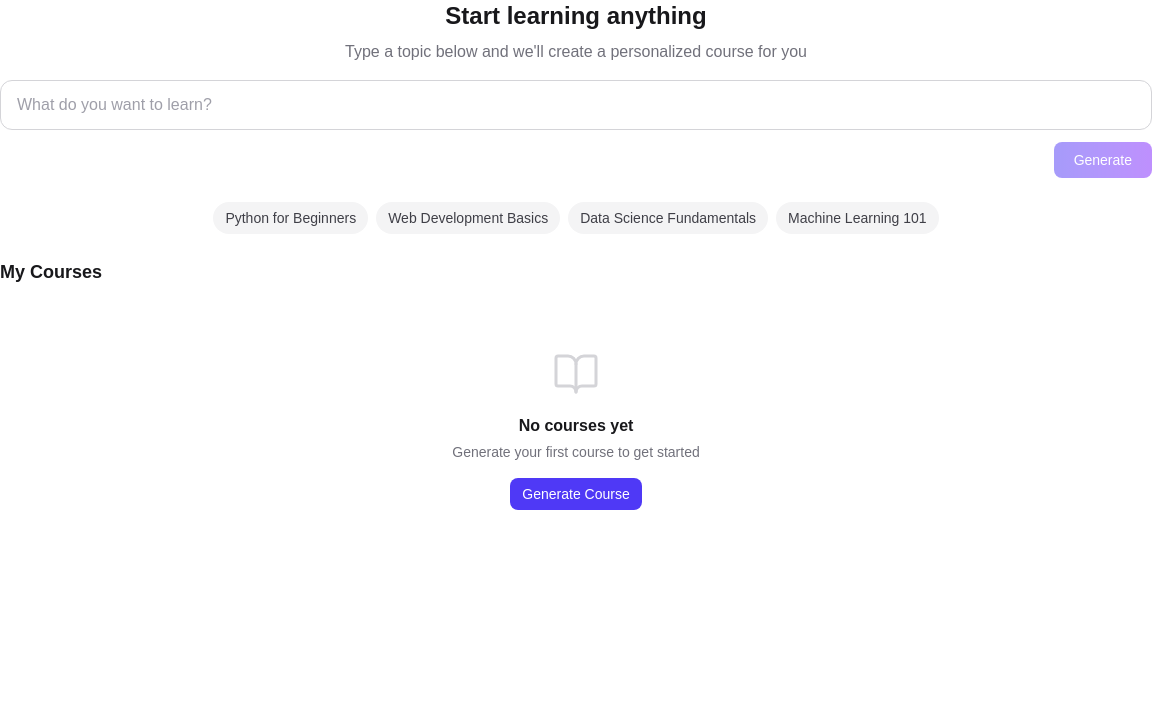
Test: DashboardPage › opens the config modal on Generate instead of generating immediately
Type "Linear Algebra" into the field with placeholder "What do you want to learn?" at (576, 105), box [0,80,1151,130]
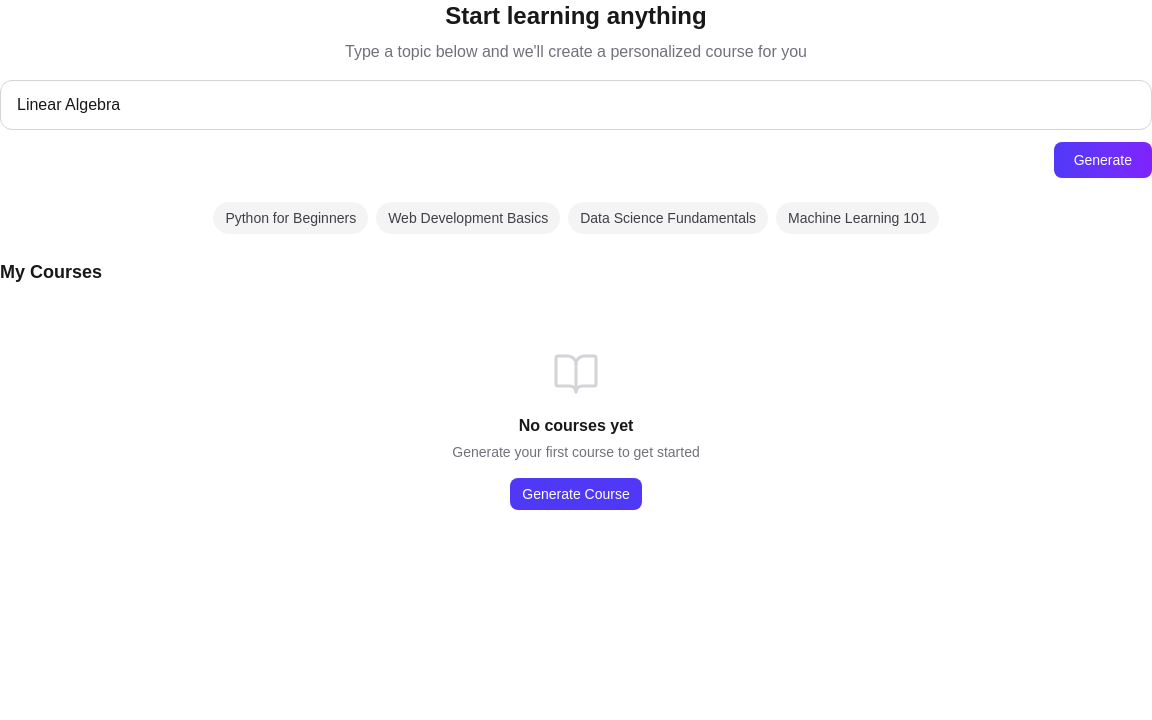
Click the button "Generate" at (1103, 160), box [1054,142,1151,178]
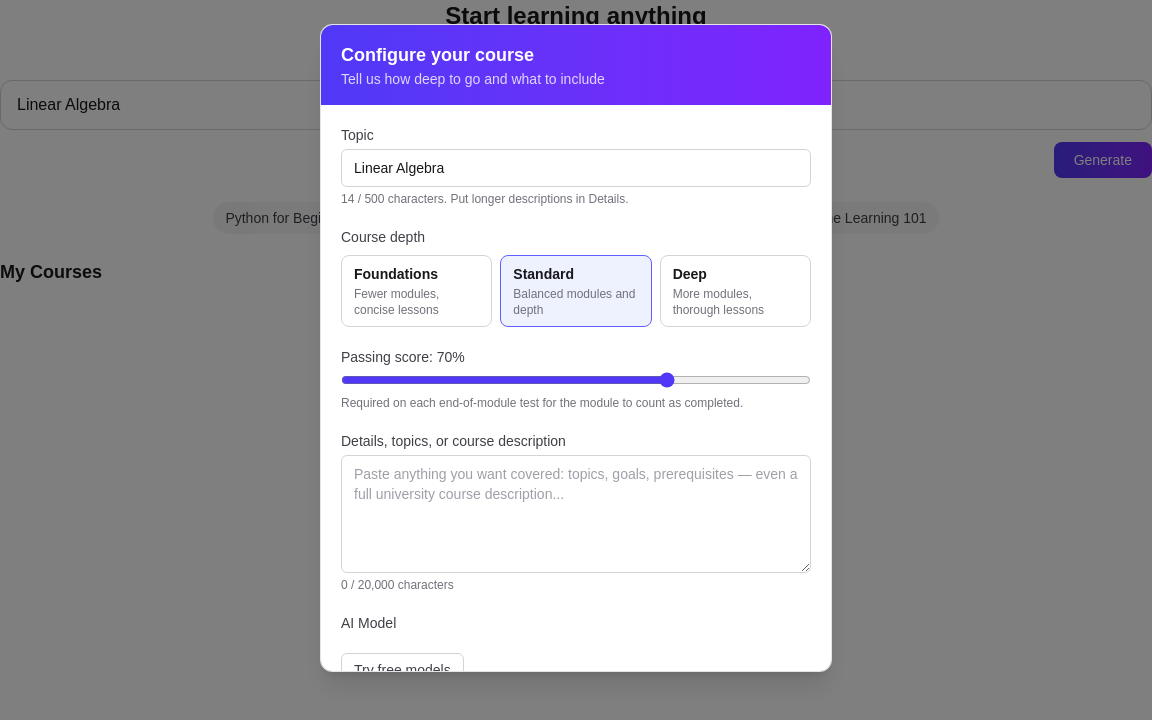
Now the heading "Configure your course" is shown, box [341,45,534,65]
